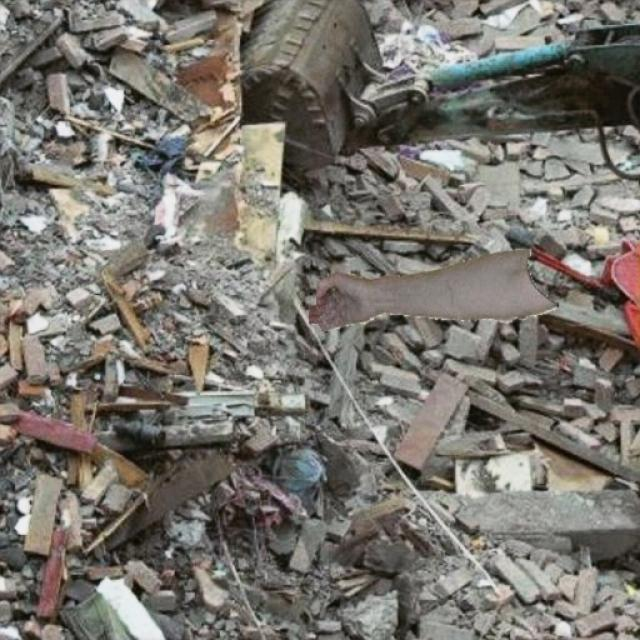Person in Rubble: (308, 248, 558, 332)
